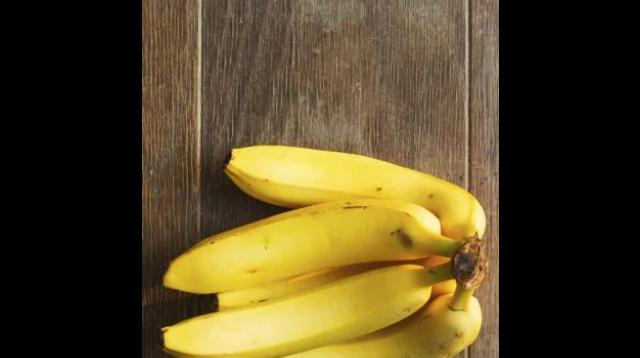Bananas: (159, 145, 485, 358)
